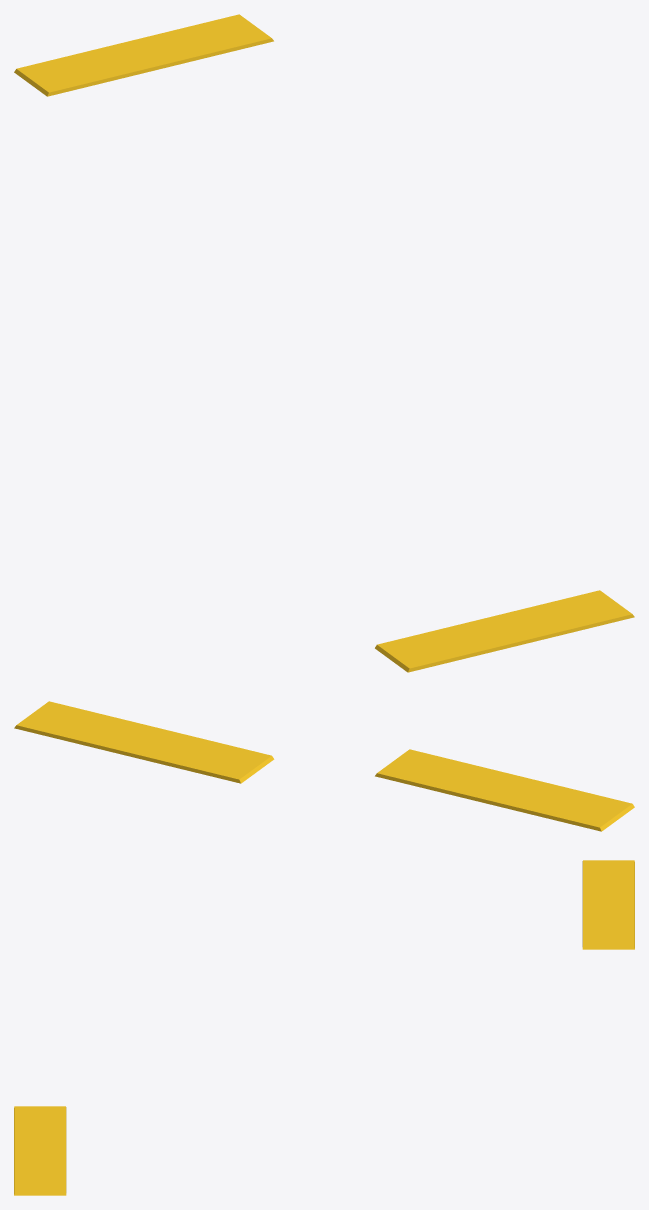
The model's file is ENV_Stair_PodotactileSlabs.fbx.
3 views of the same model, one above another, from view 1: azimuth 30°, elevation 25°; view 2: azimuth 150°, elevation 25°; view 3: azimuth 270°, elevation 25° (orthographic). The views are drawn at different scales.
Parts seen in each view (by area): view 1: Plane.002; view 2: Plane.002; view 3: Plane.002.
Part boxes in pixels (x1,y1,x2,y2): Plane.002: (14,14,634,672); Plane.002: (14,701,634,831); Plane.002: (14,860,634,1195).
Bounding box in the file's own units: 200 × 265 × 601.
